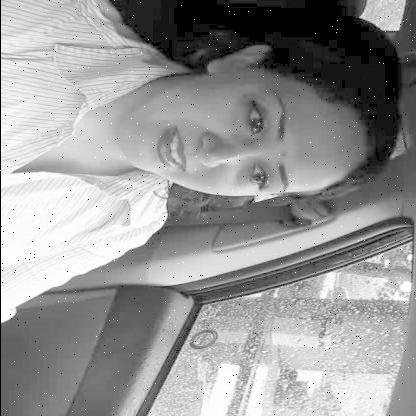no_seatbelt: (0, 29, 397, 261)
